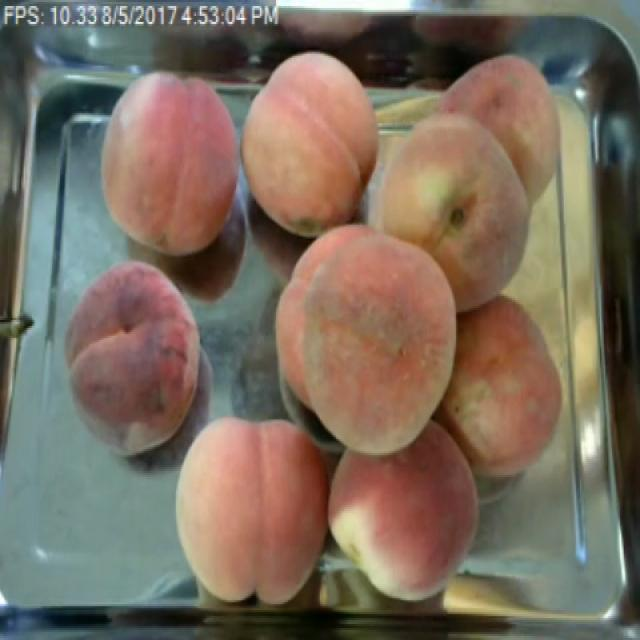Fruit: (257, 207, 479, 471), (349, 68, 551, 324), (164, 400, 351, 616), (52, 247, 219, 467), (237, 36, 399, 252), (320, 410, 493, 612), (92, 62, 248, 266), (431, 286, 578, 489)
